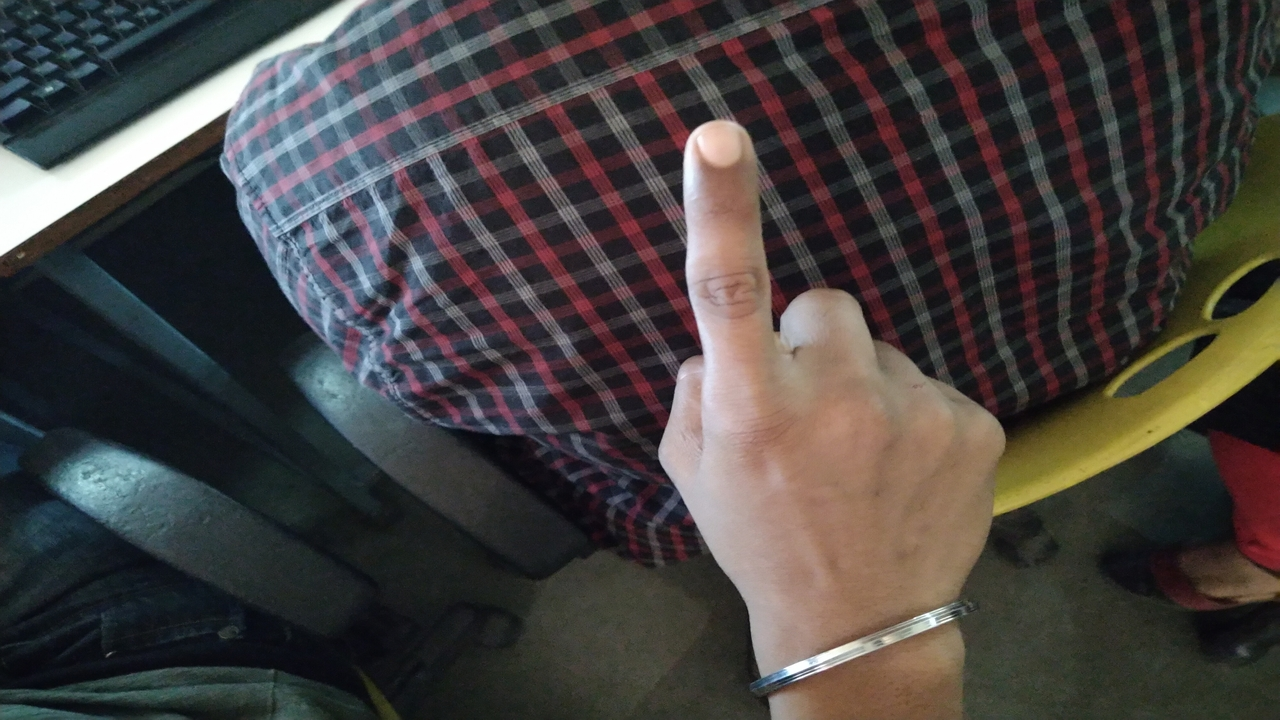fingertip: (674, 114, 758, 188)
